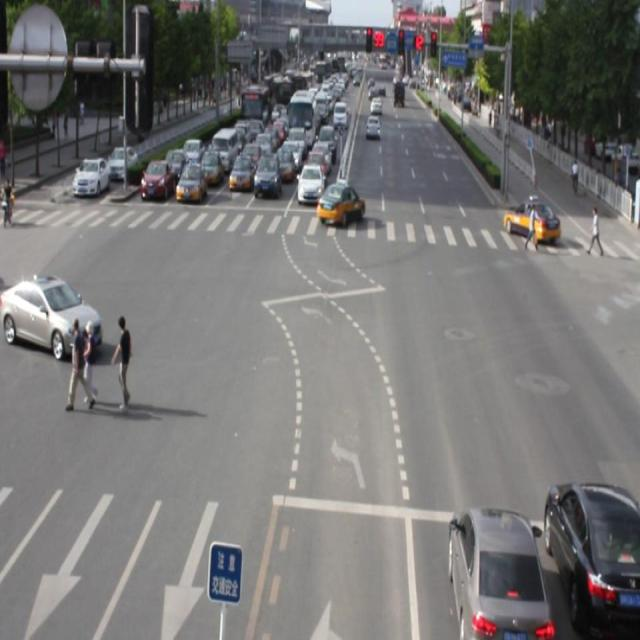car: (542, 487, 640, 640), (446, 513, 544, 640), (1, 272, 102, 356), (316, 181, 365, 224)
